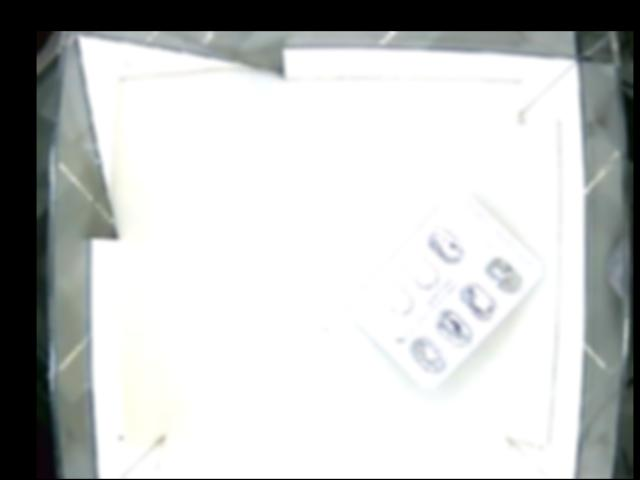Medicine: (346, 191, 544, 386)
